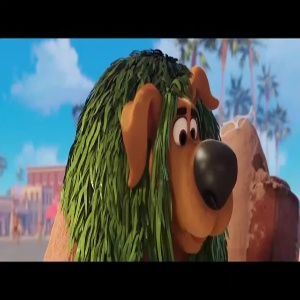Scooby: (123, 61, 244, 249)
